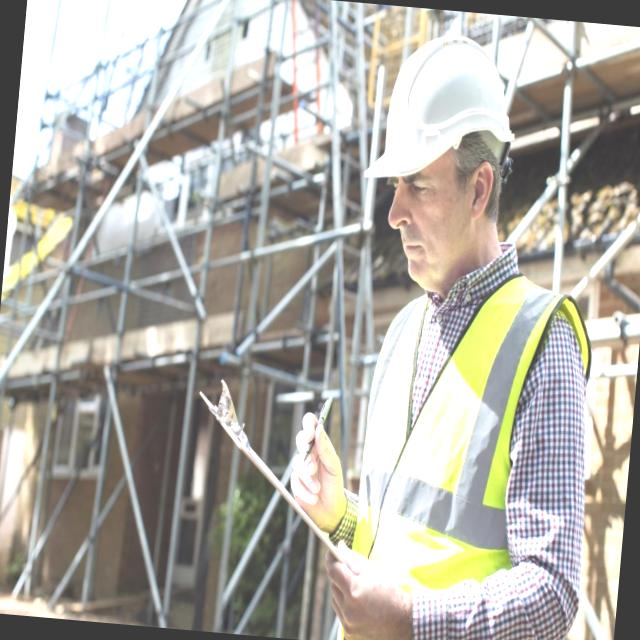helmet: (360, 21, 530, 199)
vest: (347, 259, 602, 626)
